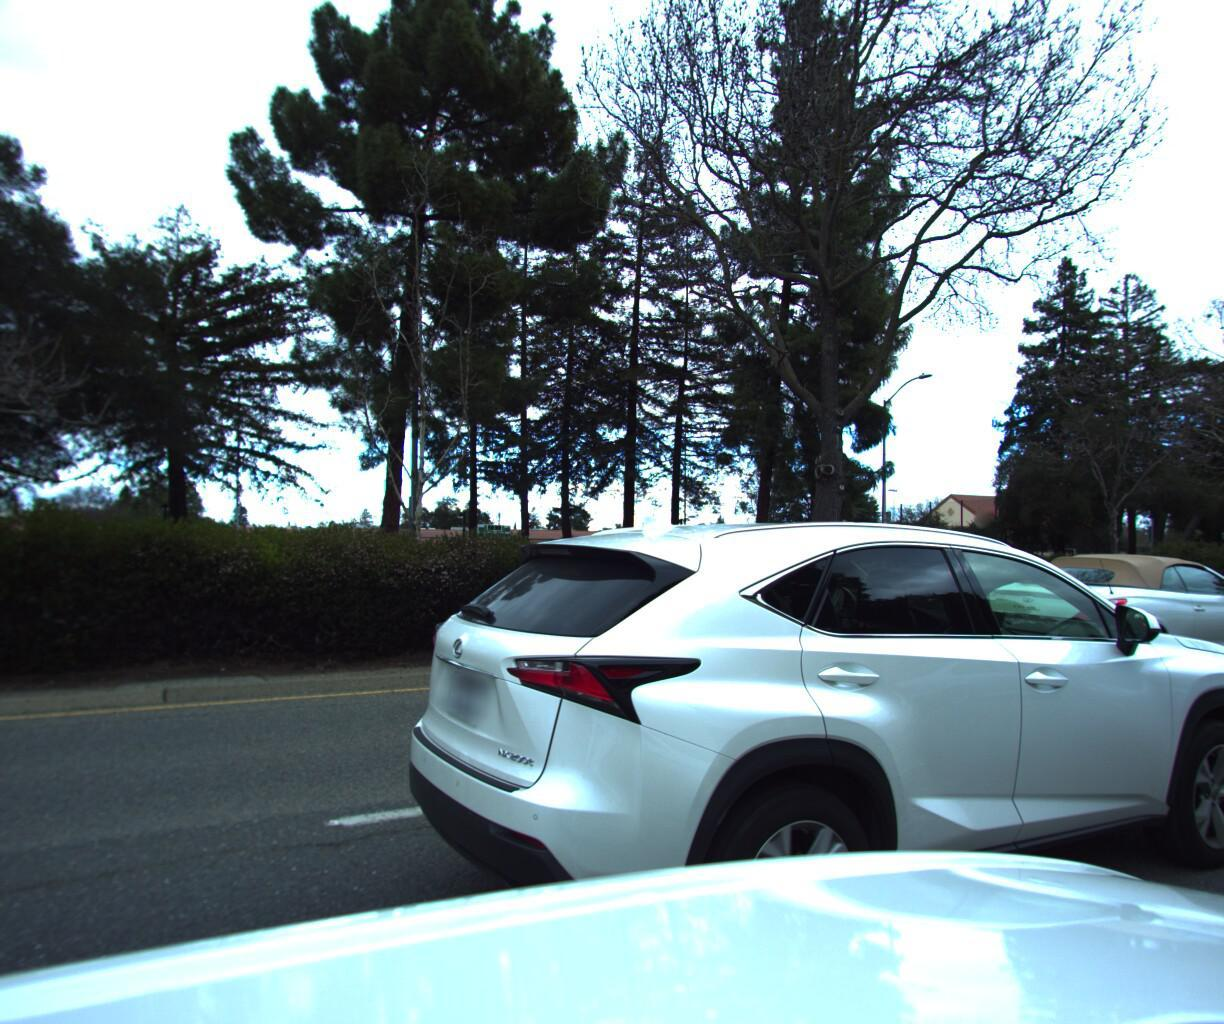car: (380, 520, 1224, 1024), (948, 548, 1224, 696)
